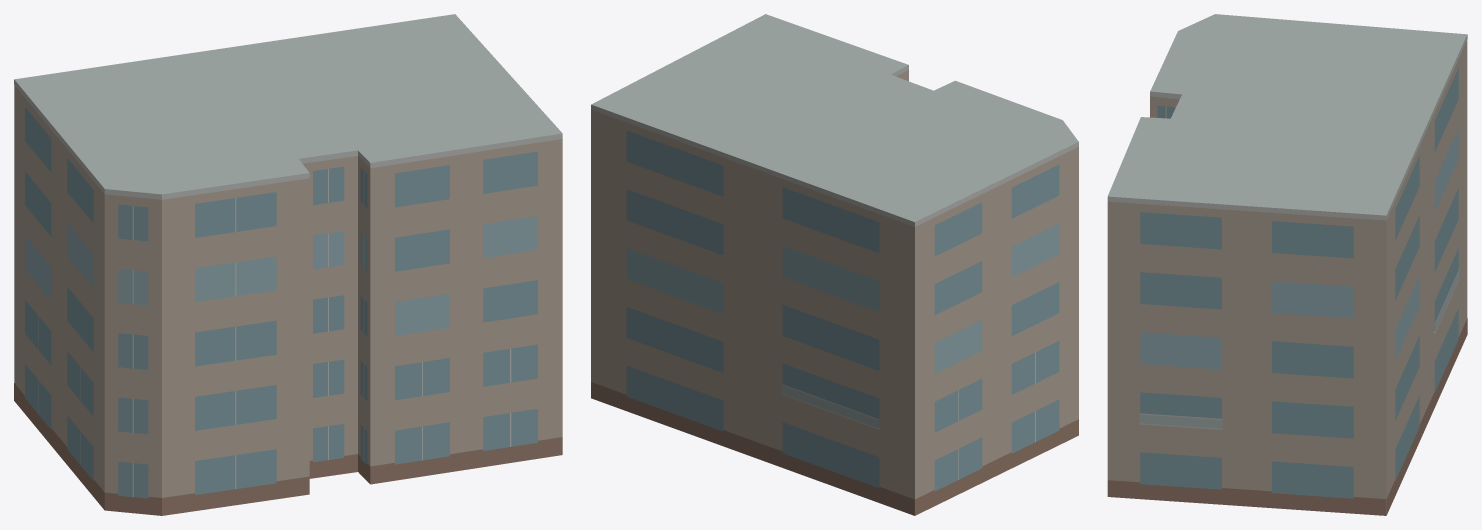
The model's file is survey-upis-32800215.glb.
The picture shows the model from 3 angles, left to right: view 1: azimuth 30°, elevation 25°; view 2: azimuth 150°, elevation 25°; view 3: azimuth 270°, elevation 25°; orthographic projection. The views are drawn at different scales.
Parts seen in each view (by area): view 1: survey-upis-32800215.tmp; view 2: survey-upis-32800215.tmp; view 3: survey-upis-32800215.tmp.
Part boxes in pixels (left/top/right/bottom): survey-upis-32800215.tmp: left=14, top=14, right=562, bottom=515; survey-upis-32800215.tmp: left=591, top=14, right=1078, bottom=515; survey-upis-32800215.tmp: left=1107, top=14, right=1467, bottom=515.
Bounding box in the file's own units: 21.02 × 14.6 × 15.87.
